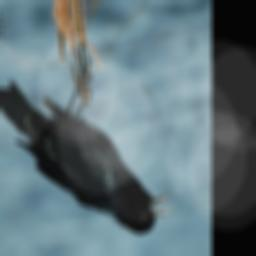Crow: (0, 45, 174, 256)
